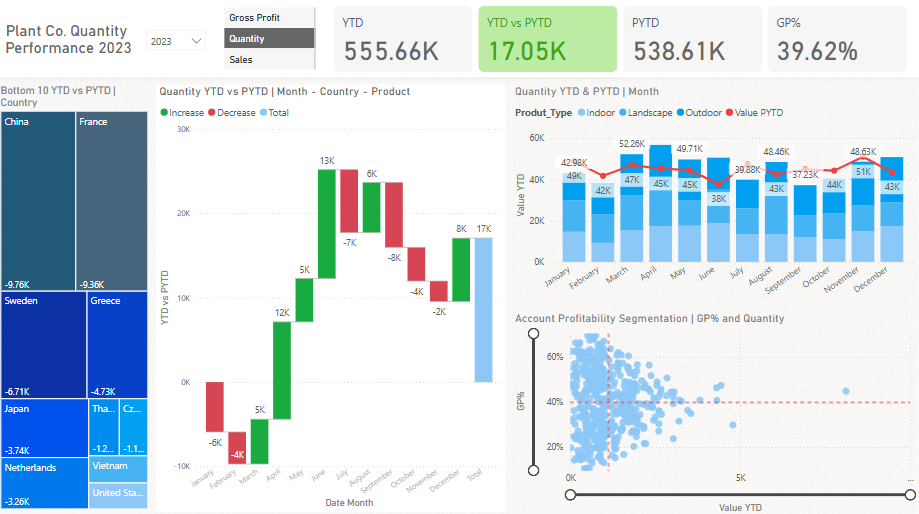

Layout of this report page (visuals, bound fields, positions):
{"tool":"powerbi","page":{"name":"Performance Report","canvas":[1280,720],"ordinal":0},"visuals":[{"type":"cardVisual","fields":{"Data":["_Measures.S_YTD","_Measures.YTD vs PYTD","_Measures.S_PYTD","_Measures.GP%"]},"box":[463,4.2,806.2,102.1],"z":0},{"type":"advancedSlicerVisual","fields":{"Values":["Slc_Values.Values"]},"box":[309.8,5.9,137.3,98],"z":1000},{"type":"slicer","fields":{"Values":["Dim_Date.Date.Variation.Date Hierarchy.Year"]},"box":[198.4,32.7,101.3,50.2],"z":2000},{"type":"treemap","title":"Bottom 10 YTD vs PYTD | Country","fields":{"Values":["_Measures.YTD vs PYTD"],"Group":["Dim_Account.country"]},"box":[0,118.7,214.6,594.4],"z":3000},{"type":"waterfallChart","fields":{"Y":["_Measures.YTD vs PYTD"],"Category":["Dim_Date.Date.Variation.Date Hierarchy.Month","Dim_Account.country","Dim_Product.Produt_Type","Dim_Product.Product_Name"]},"box":[220.3,119.6,485.2,593.5],"z":4000},{"type":"lineStackedColumnComboChart","fields":{"Y":["_Measures.S_YTD"],"Y2":["_Measures.S_PYTD"],"Category":["Dim_Date.Date.Variation.Date Hierarchy.Quarter","Dim_Date.Date.Variation.Date Hierarchy.Month"],"Series":["Dim_Product.Produt_Type"]},"box":[714.1,119.6,565.9,314.3],"z":5000},{"type":"scatterChart","fields":{"Y":["_Measures.GP%"],"X":["_Measures.S_YTD"],"Category":["Dim_Account.Account"]},"box":[714.1,433.9,565.9,285.8],"z":6000},{"type":"card","fields":{"Values":["_Measures._Report title"]},"box":[0,20.9,198.5,68.4],"z":7000}]}

Visuals, with their boxes in screenshot pixels (x1, y1, x2, y2), scaled from the page's 1280x720 canvas onto the 919x514 screenshot:
cardVisual - _Measures.S_YTD x _Measures.YTD vs PYTD: x1=332, y1=3, x2=911, y2=76
advancedSlicerVisual - Slc_Values.Values: x1=222, y1=4, x2=321, y2=74
slicer - Dim_Date.Date.Variation.Date Hierarchy.Year: x1=142, y1=23, x2=215, y2=59
"Bottom 10 YTD vs PYTD | Country" treemap: x1=0, y1=85, x2=154, y2=509
waterfallChart - _Measures.YTD vs PYTD x Dim_Date.Date.Variation.Date Hierarchy.Month: x1=158, y1=85, x2=507, y2=509
lineStackedColumnComboChart - _Measures.S_YTD x _Measures.S_PYTD: x1=513, y1=85, x2=918, y2=310
scatterChart - _Measures.GP% x _Measures.S_YTD: x1=513, y1=310, x2=918, y2=513
card - _Measures._Report title: x1=0, y1=15, x2=143, y2=64
